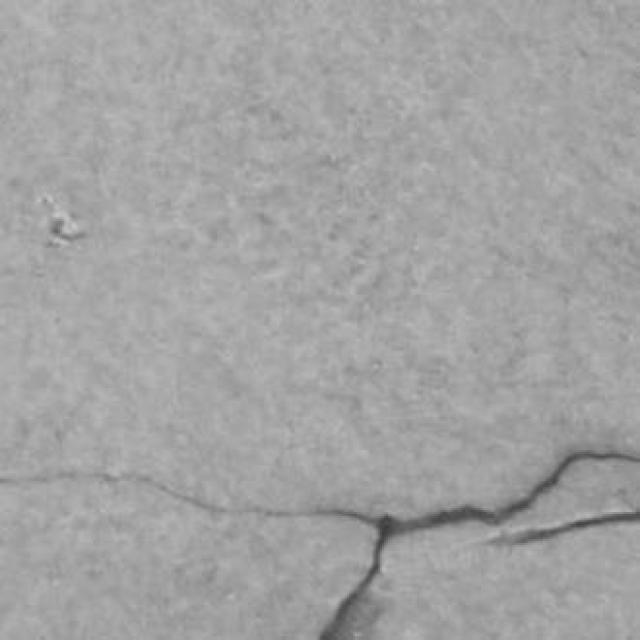crack: (0, 450, 639, 639), (320, 450, 639, 639), (394, 450, 639, 537), (0, 470, 376, 525), (320, 516, 393, 639), (487, 512, 639, 546)
